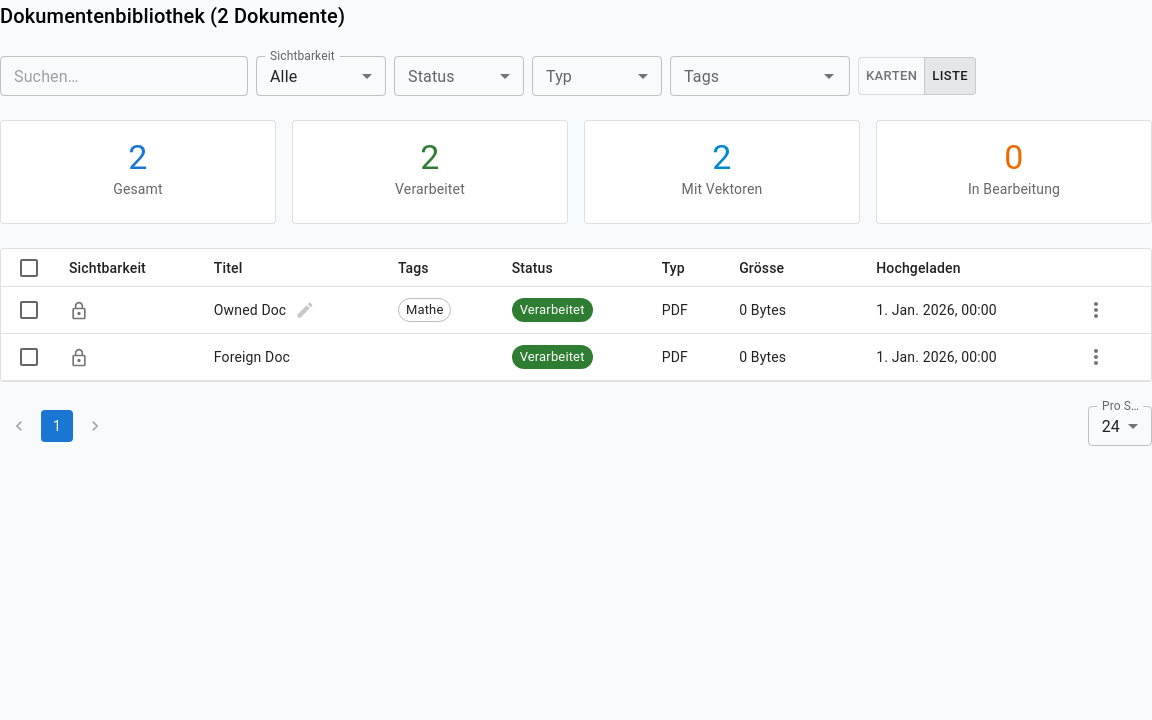
Test: DocumentLibrary TF-355 paginated › (a) bulk visibility: updateVisibility nur für owned doc, summary enthält übersprungen
Check: the text "Owned Doc" is shown, box [214,300,286,320]
Click the checkbox named "Owned Doc" at (29, 310), box [17,298,41,322]
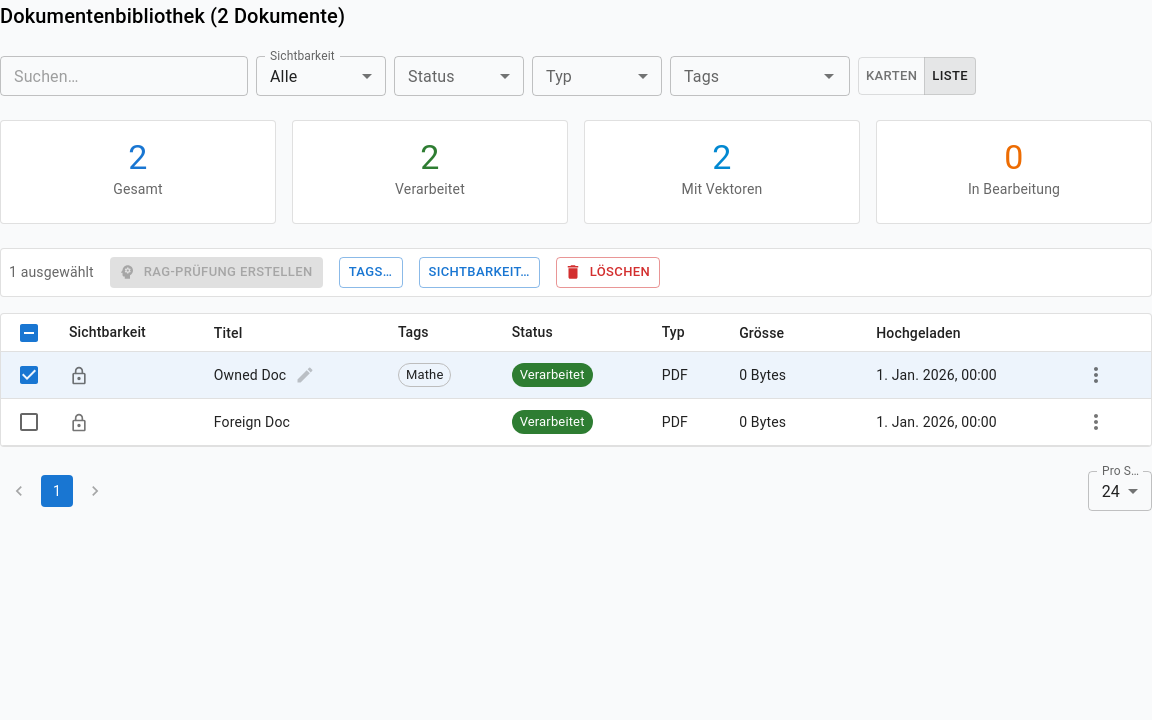
Click the checkbox named "Foreign Doc" at (29, 422), box [17,410,41,434]
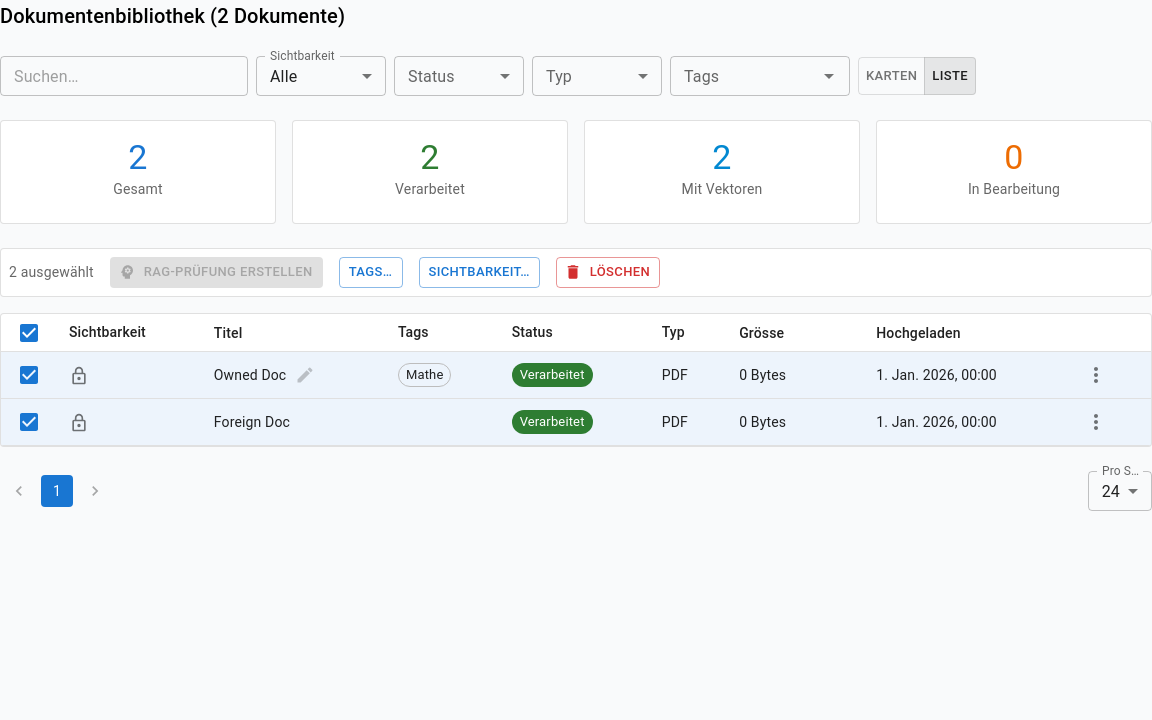
Click the button "Sichtbarkeit…" at (479, 272), box [418,257,540,288]
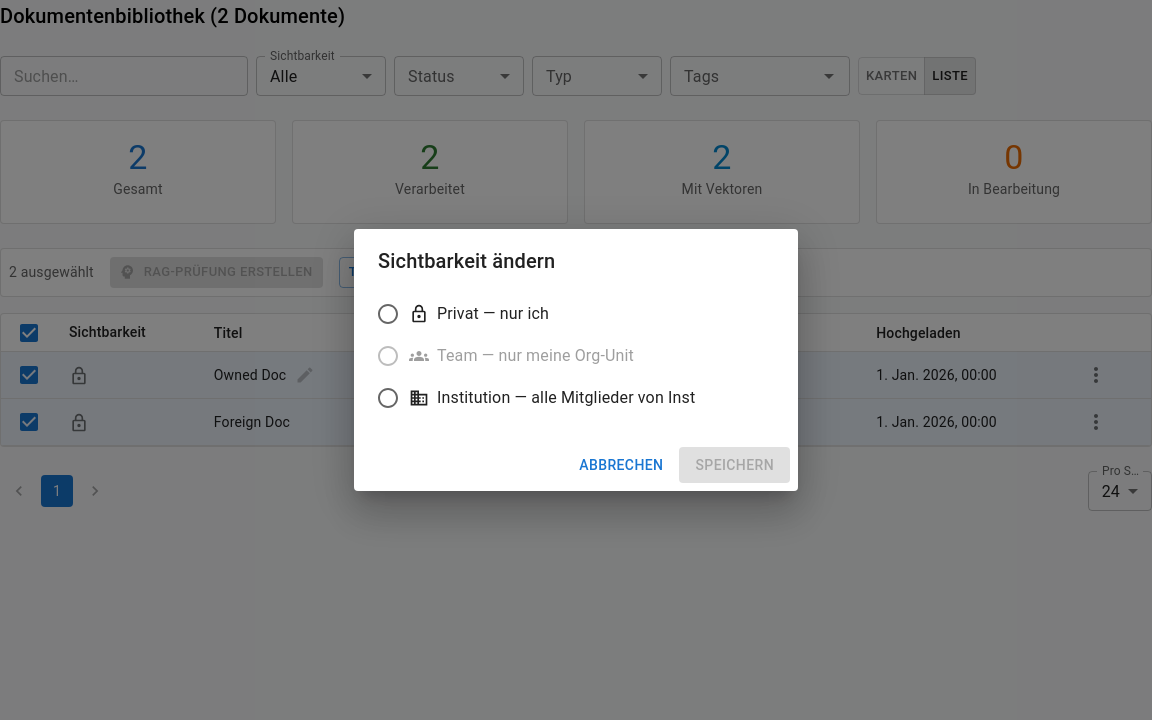
Click the radio button labelled "Privat — nur ich" at (462, 314), box [376,302,549,326]
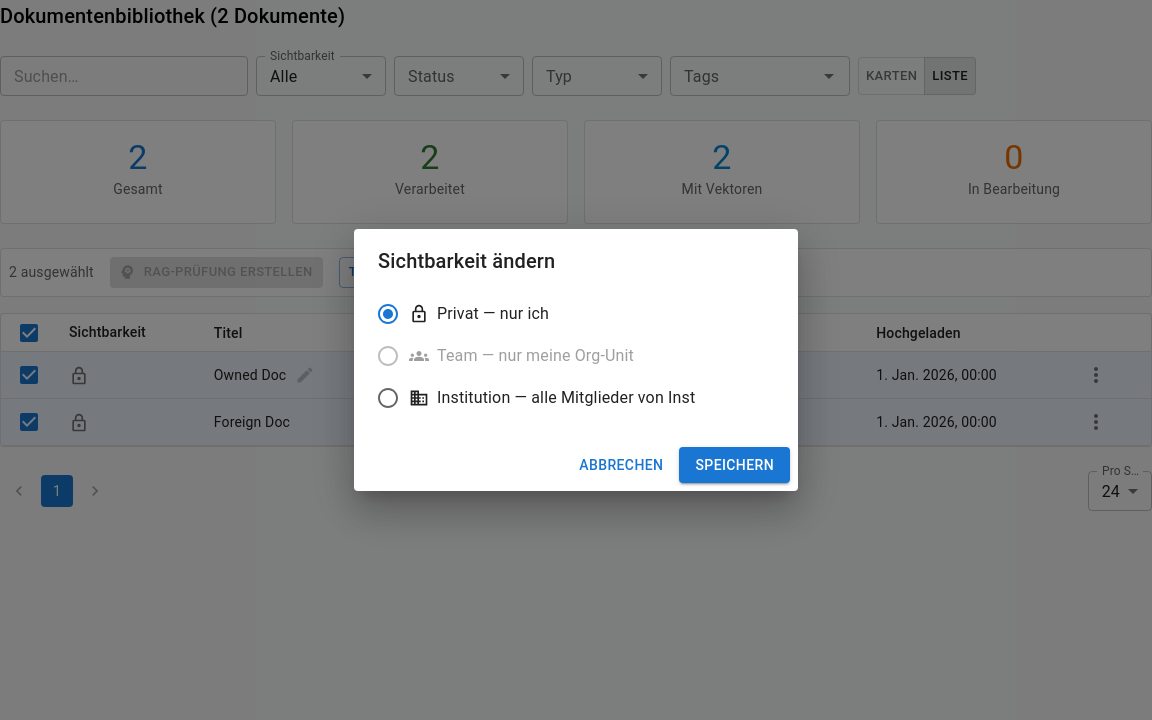
Click the button "Speichern" at (735, 465), box [679,447,790,483]
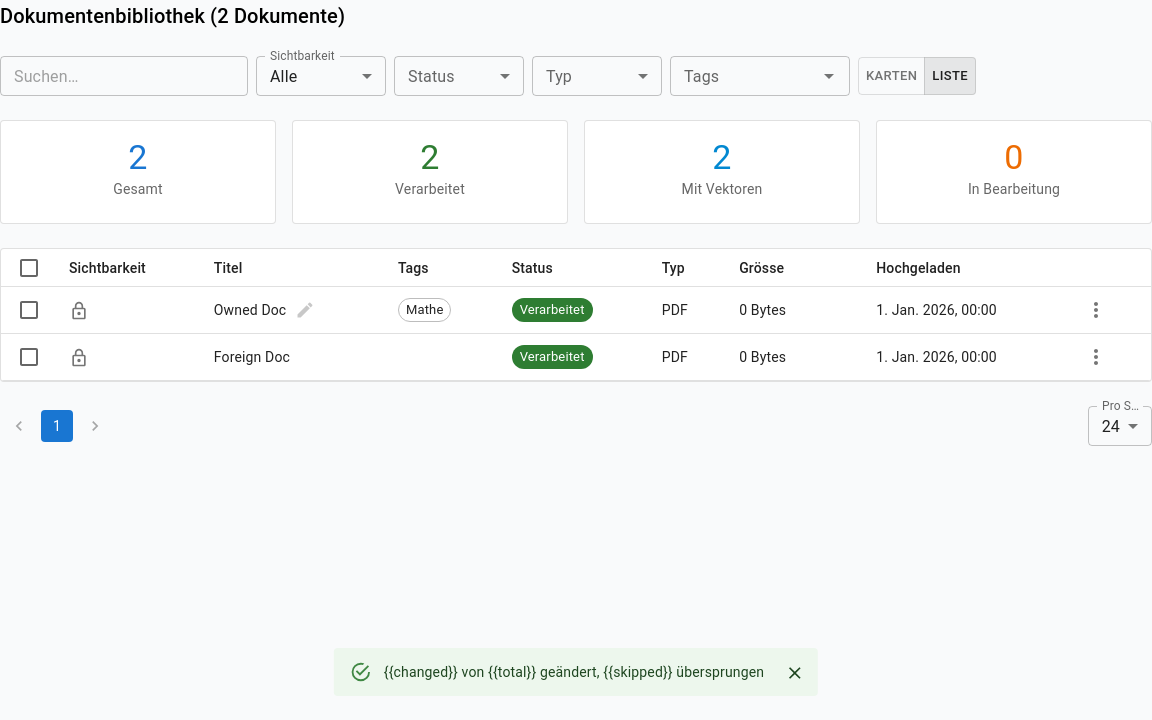
Check: the text "{{changed}} von {{total}} geändert, {{skipped}} übersprungen" is shown, box [384,664,764,680]
